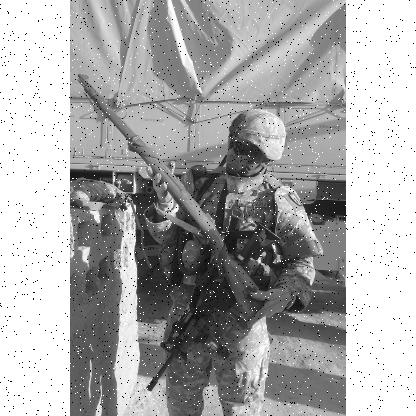gun: (76, 74, 260, 318)
